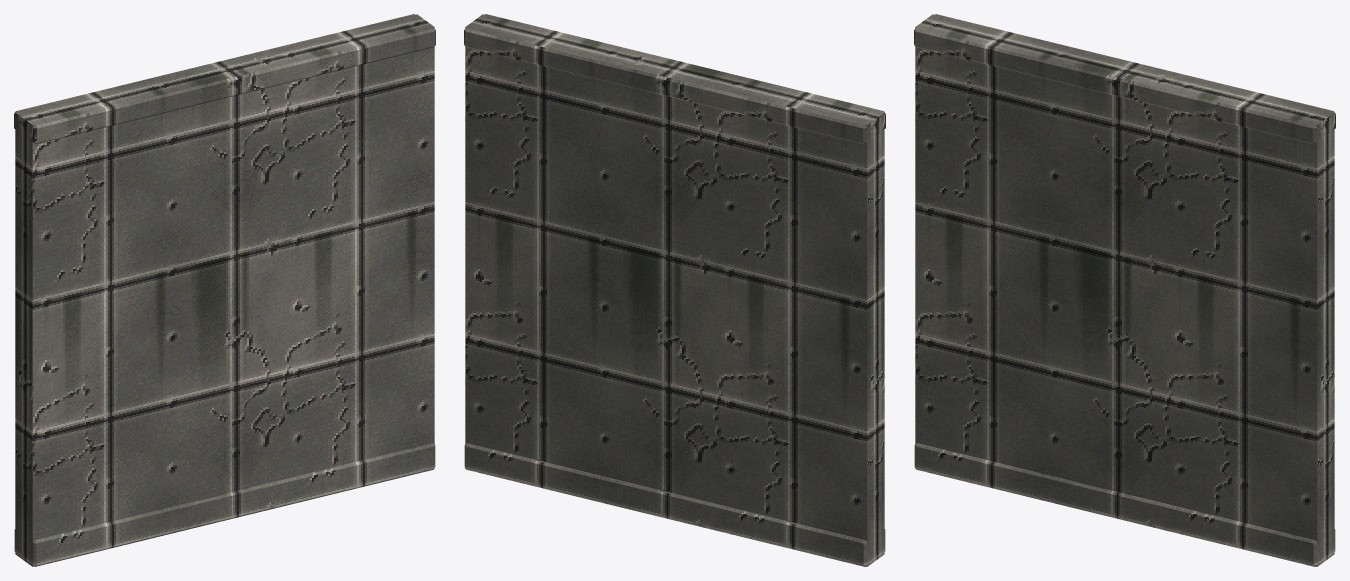
File: wall_concrete.glb
3 renders of one model, left to right at view 1: azimuth 30°, elevation 25°; view 2: azimuth 150°, elevation 25°; view 3: azimuth 330°, elevation 25°, orthographic.
Parts seen in each view (by area): view 1: wall_concrete_mesh; view 2: wall_concrete_mesh; view 3: wall_concrete_mesh.
Part boxes in pixels (bbox=[...]): wall_concrete_mesh: bbox=[14, 14, 435, 566]; wall_concrete_mesh: bbox=[464, 14, 885, 566]; wall_concrete_mesh: bbox=[914, 14, 1335, 566].
Size of what is drawn, in the model's own units: 4 by 4.2 by 0.38.
1 material, 1 textured.
